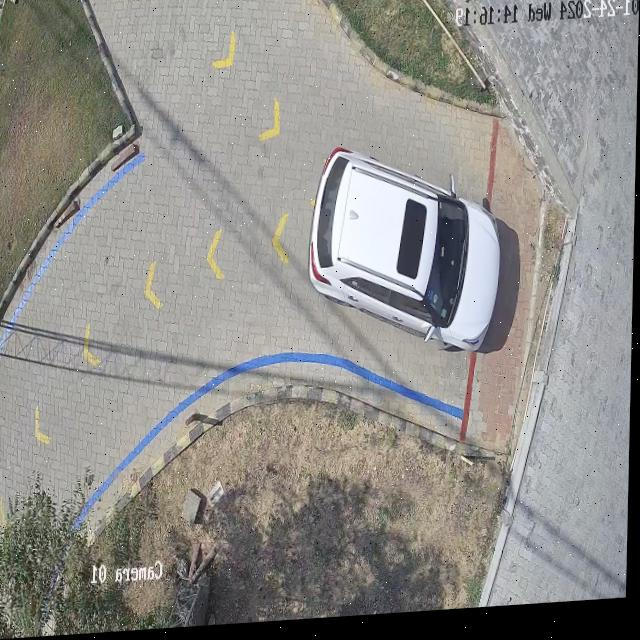car: (311, 153, 501, 357)
